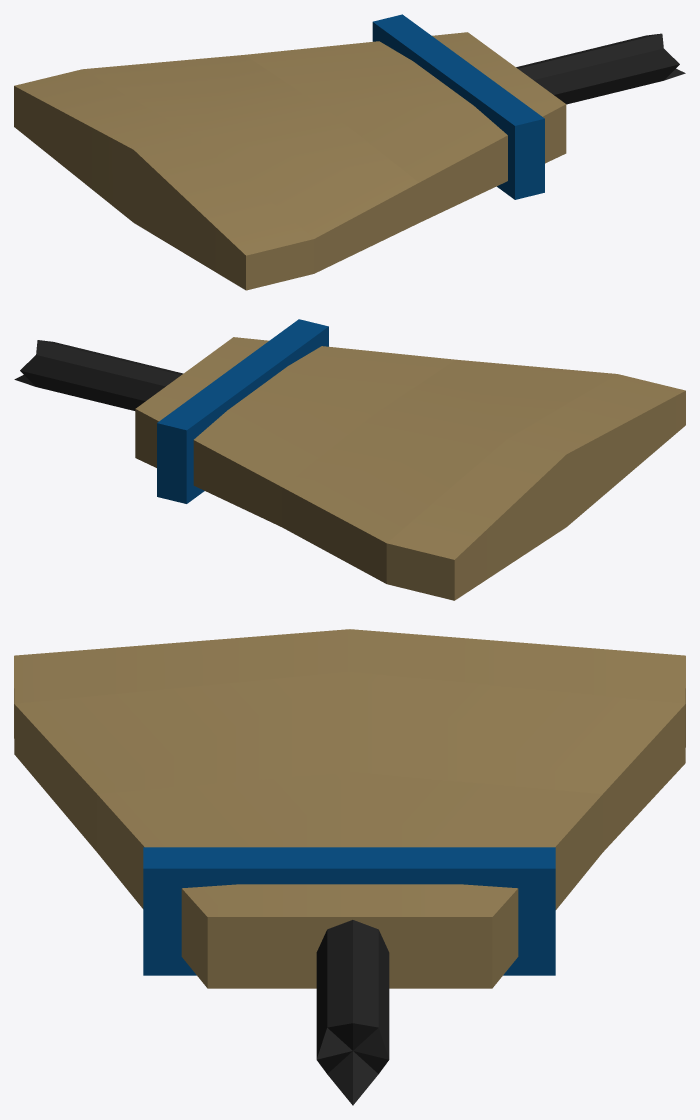
The model's file is metla.fbx.
3 renders of one model, top to bottom at view 1: azimuth 30°, elevation 25°; view 2: azimuth 150°, elevation 25°; view 3: azimuth 270°, elevation 25°, orthographic. The views are drawn at different scales.
Parts seen in each view (by area): view 1: pCube153; view 2: pCube153; view 3: pCube153.
Boxes of the visible parts, bbox=[...] form: pCube153: bbox=[14, 14, 685, 290]; pCube153: bbox=[14, 319, 685, 600]; pCube153: bbox=[14, 629, 685, 1105].
Size of the model in its own units: 0.7777 by 0.0988 by 0.5613.
